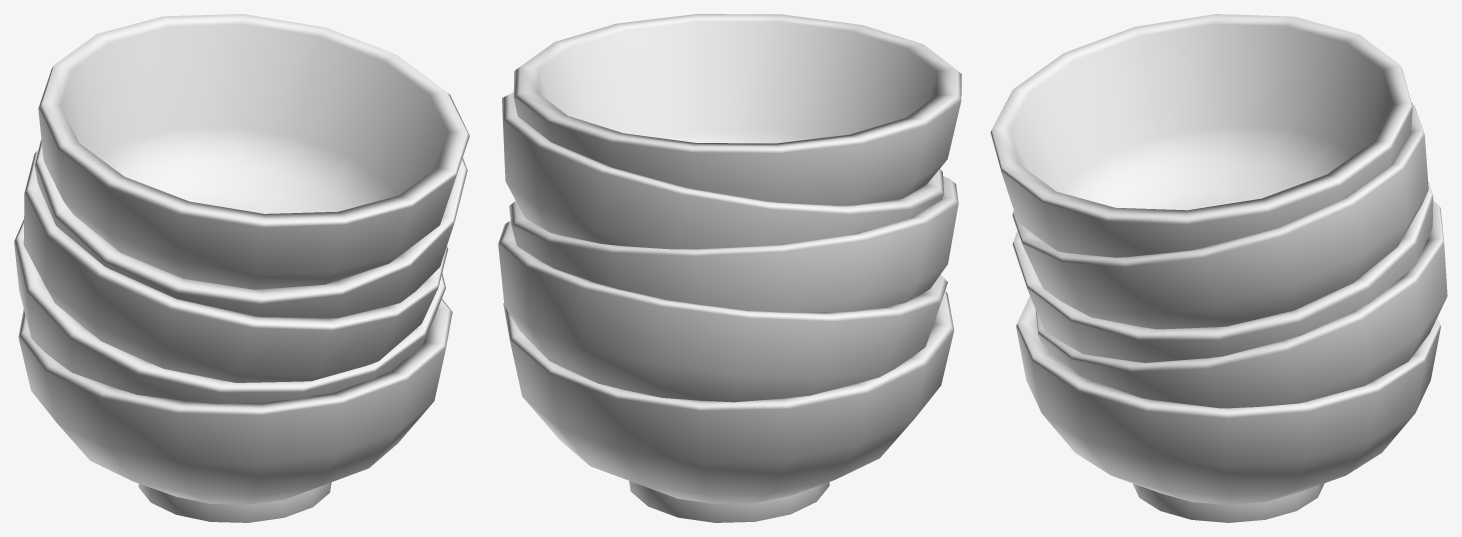
Rendered from SM_Bowlspile_S.fbx.
3 views of the same model, side by side, from view 1: azimuth 30°, elevation 25°; view 2: azimuth 150°, elevation 25°; view 3: azimuth 270°, elevation 25° (orthographic). The views are drawn at different scales.
Visible parts, largest first — view 1: SM_Bowlspile_S; view 2: SM_Bowlspile_S; view 3: SM_Bowlspile_S.
Part boxes in pixels (left/top/right/bottom): SM_Bowlspile_S: left=14, top=14, right=469, bottom=522; SM_Bowlspile_S: left=498, top=14, right=961, bottom=522; SM_Bowlspile_S: left=990, top=14, right=1447, bottom=522.
Bounding box in the file's own units: 15.38 × 14.96 × 15.79.
